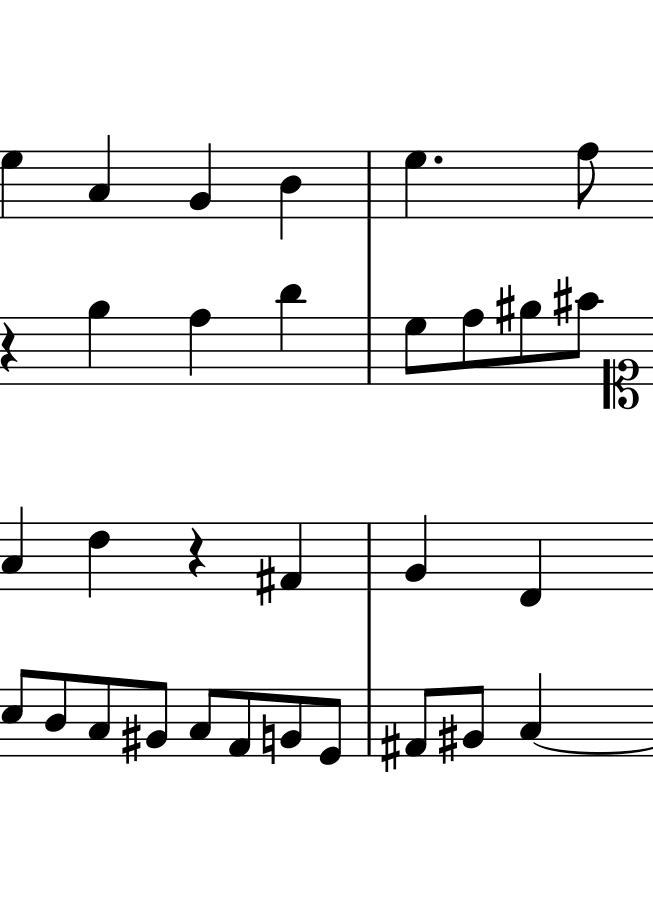4_-1: (518, 521, 544, 608)
4_1: (279, 521, 305, 591)
4_11: (276, 283, 307, 385)
4_2: (404, 513, 428, 591), (190, 141, 213, 219)
4_3: (87, 133, 113, 219), (1, 505, 25, 589), (520, 672, 543, 757)
4_4: (277, 149, 303, 243)
4_6: (86, 519, 110, 600)
4_7: (402, 149, 427, 221), (1, 151, 27, 219)
4_8: (186, 307, 213, 387)
4_9: (86, 300, 111, 385)
8_0: (319, 688, 343, 766)
8_1: (405, 687, 435, 758), (227, 687, 253, 760)
8_10: (570, 291, 605, 383)
8_2: (144, 680, 169, 757), (279, 689, 304, 757), (462, 684, 485, 756)
8_3: (188, 687, 220, 757), (87, 675, 113, 758)
8_4: (42, 671, 68, 758)
8_5: (1, 668, 30, 758)
8_7: (402, 316, 427, 385)
8_8: (460, 307, 485, 386), (576, 141, 600, 219)
8_9: (519, 300, 543, 384)
Natural: (260, 716, 277, 764)
Rests4: (185, 525, 207, 580)
Sharp: (492, 282, 517, 335), (379, 721, 403, 774), (551, 274, 573, 326), (255, 555, 276, 606), (438, 715, 459, 766), (121, 715, 142, 765)
Single_barline: (360, 688, 377, 756), (360, 318, 377, 386), (361, 151, 377, 216), (361, 524, 376, 588)
Soprano_Cclef: (603, 317, 640, 409)
dot: (431, 152, 445, 169)
